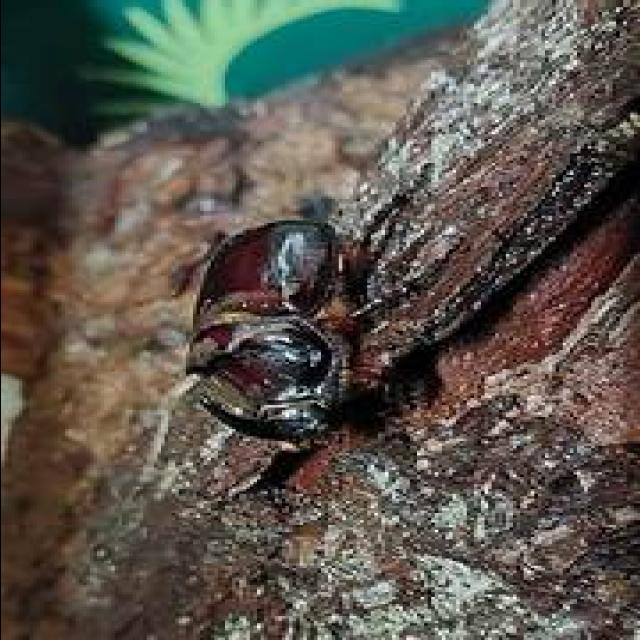Rhino-beetle: (158, 199, 404, 471)
